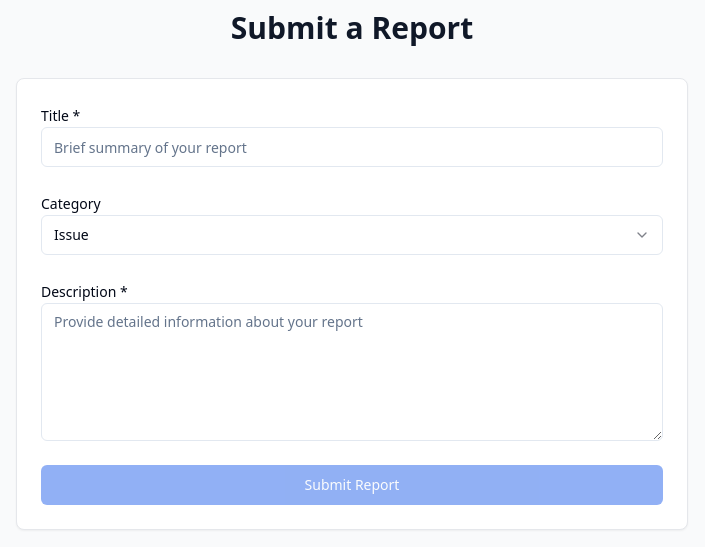
ReportForm › when magic link is valid › shows loading state during submission
The image size is (705, 547).
Step 1. Type "My Report Title" into the field labelled "Title *" → coordinates (352, 147), box 41,127 -> 663,167
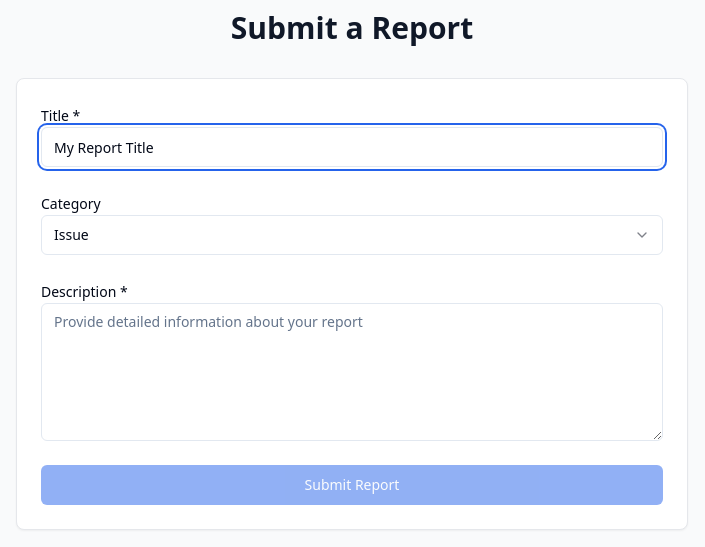
Step 2. Type "My report description" into the text box labelled "Description *" → coordinates (352, 372), box 41,303 -> 663,441
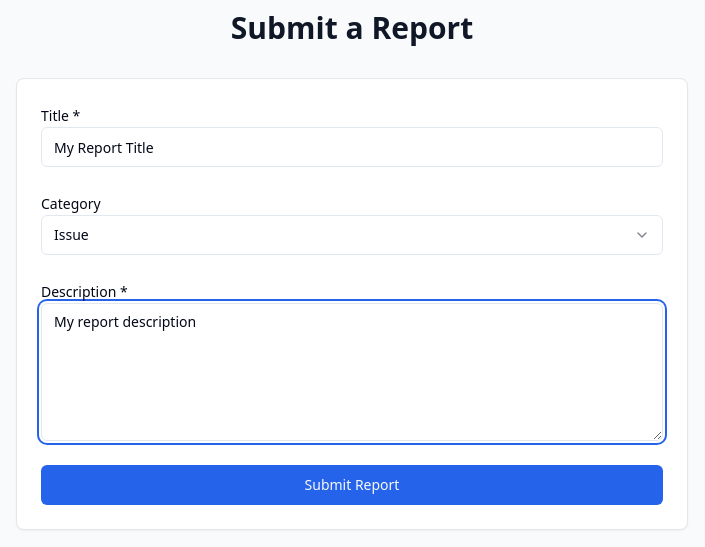
Step 3. Click the button "Submit Report" → coordinates (352, 485), box 41,465 -> 663,505
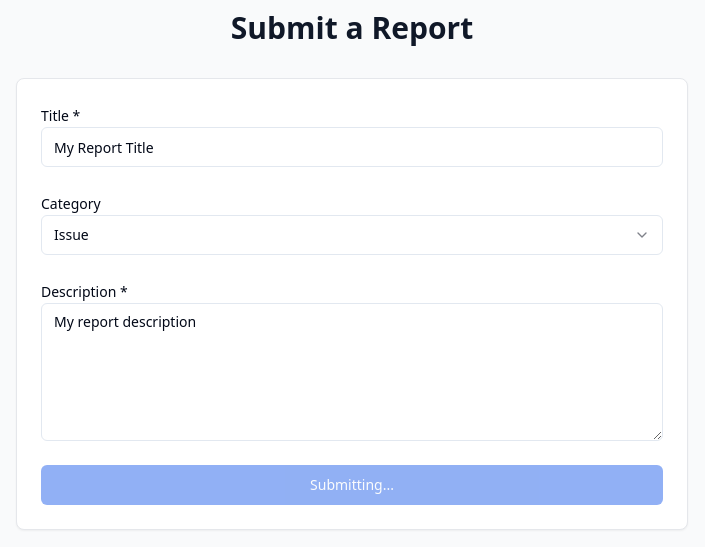
Expected: the button "Submitting..." is shown, 41,465 -> 663,505
